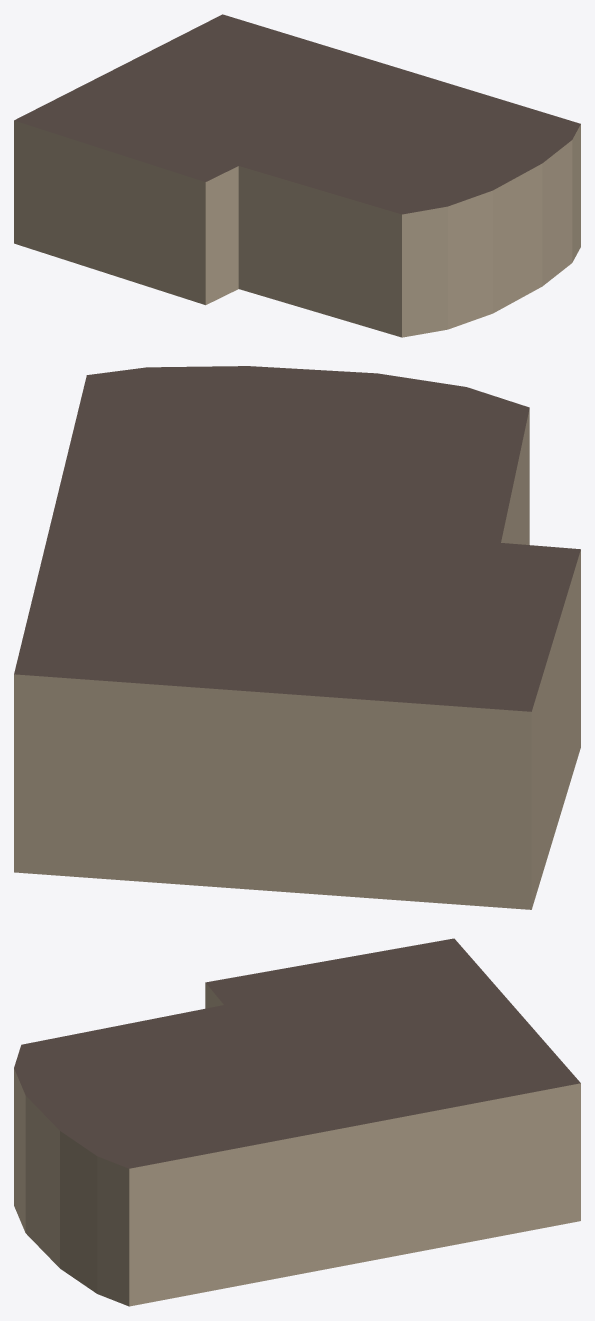
3 views of the same model, one above another, from view 1: azimuth 30°, elevation 25°; view 2: azimuth 150°, elevation 25°; view 3: azimuth 270°, elevation 25° (orthographic). The views are drawn at different scales.
Visible parts, largest first — view 1: HP-w776801040; view 2: HP-w776801040; view 3: HP-w776801040.
Part boxes in pixels (left/top/right/bottom): HP-w776801040: left=14, top=14, right=580, bottom=337; HP-w776801040: left=14, top=366, right=580, bottom=909; HP-w776801040: left=14, top=938, right=580, bottom=1306.
Size of the model in its own units: 32.26 by 9 by 33.56.
